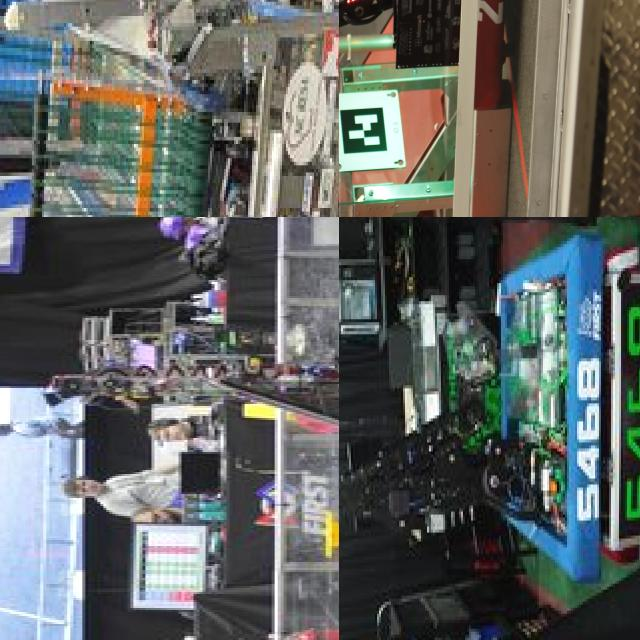FRC-Robots: (339, 217, 593, 610), (14, 278, 339, 568), (0, 0, 339, 217), (339, 0, 536, 217)
